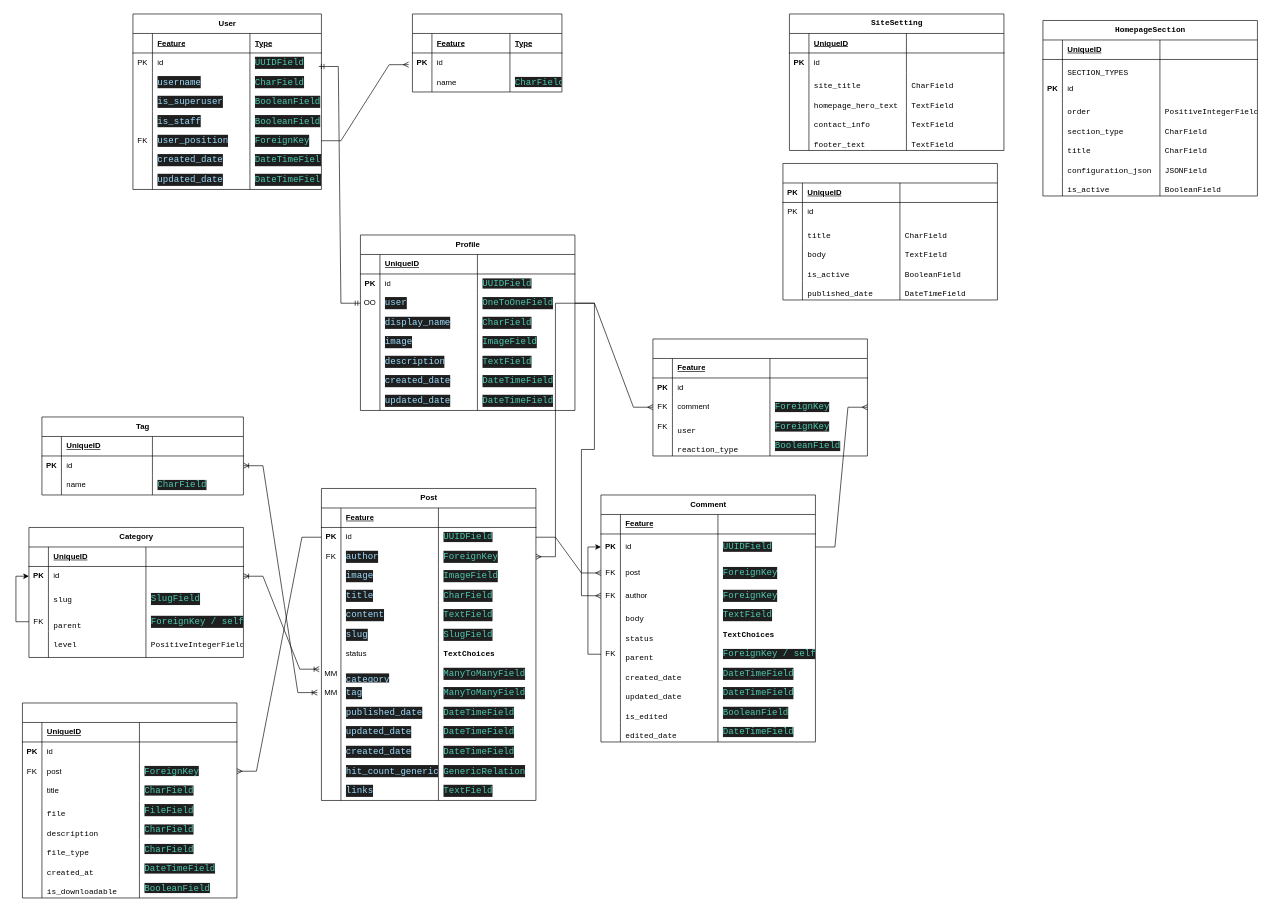
Some shapes in this 1269 by 909 pixel diagram are drawn without their labels. Here are the shapes that lost their labels. From the top down, the box of each, then its label:
(412, 13, 562, 92): Possition
(782, 163, 997, 300): Announcement
(652, 338, 867, 456): CommentReaction
(22, 702, 237, 898): PostFile
